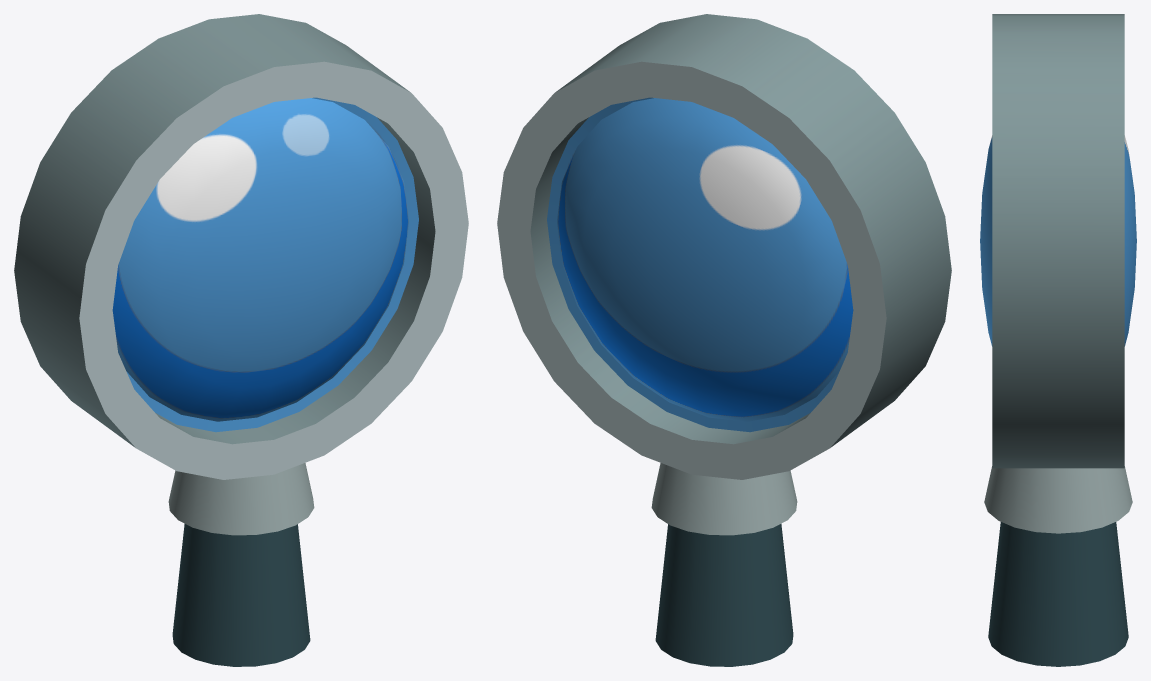
The model's file is Magnifier.fbx.
The picture shows the model from 3 angles, left to right: view 1: azimuth 30°, elevation 25°; view 2: azimuth 150°, elevation 25°; view 3: azimuth 270°, elevation 25°; orthographic projection.
Parts seen in each view (by area): view 1: Magnifier; view 2: Magnifier; view 3: Magnifier.
Part boxes in pixels (x1,y1,x2,y2): Magnifier: (14,14,468,666); Magnifier: (497,14,951,666); Magnifier: (980,14,1136,666).
Size of the model in its own units: 194 by 283 by 66.73.
